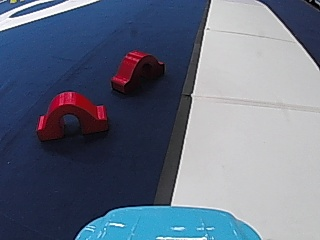bridge: (32, 87, 109, 140), (109, 47, 166, 95)
